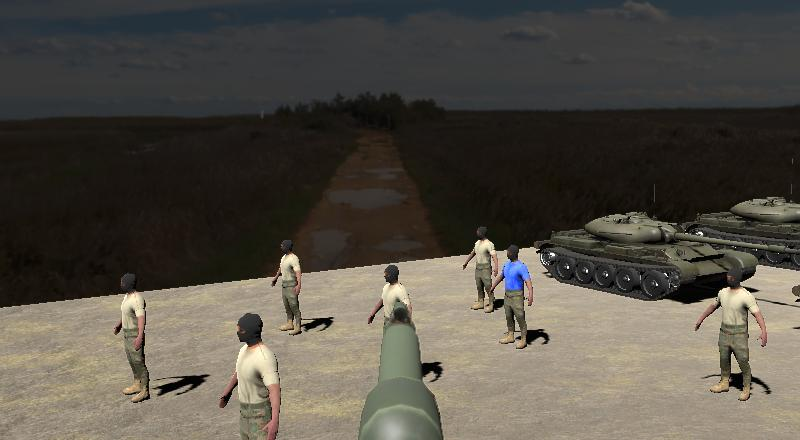Human: (691, 259, 771, 406), (215, 307, 287, 440), (109, 266, 155, 407), (487, 244, 535, 352), (270, 235, 307, 339), (459, 223, 500, 316)
Tank: (531, 204, 800, 305), (680, 189, 800, 274)
